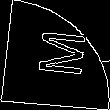M_W: (25, 29, 85, 81)
